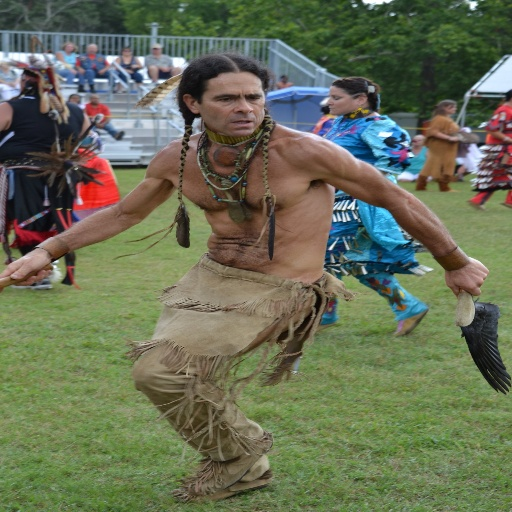hand: (0, 248, 53, 293), (441, 255, 498, 296), (448, 134, 461, 143), (94, 68, 104, 75), (128, 63, 139, 69), (78, 68, 87, 75), (94, 122, 104, 128), (160, 66, 168, 73), (71, 69, 78, 75)
